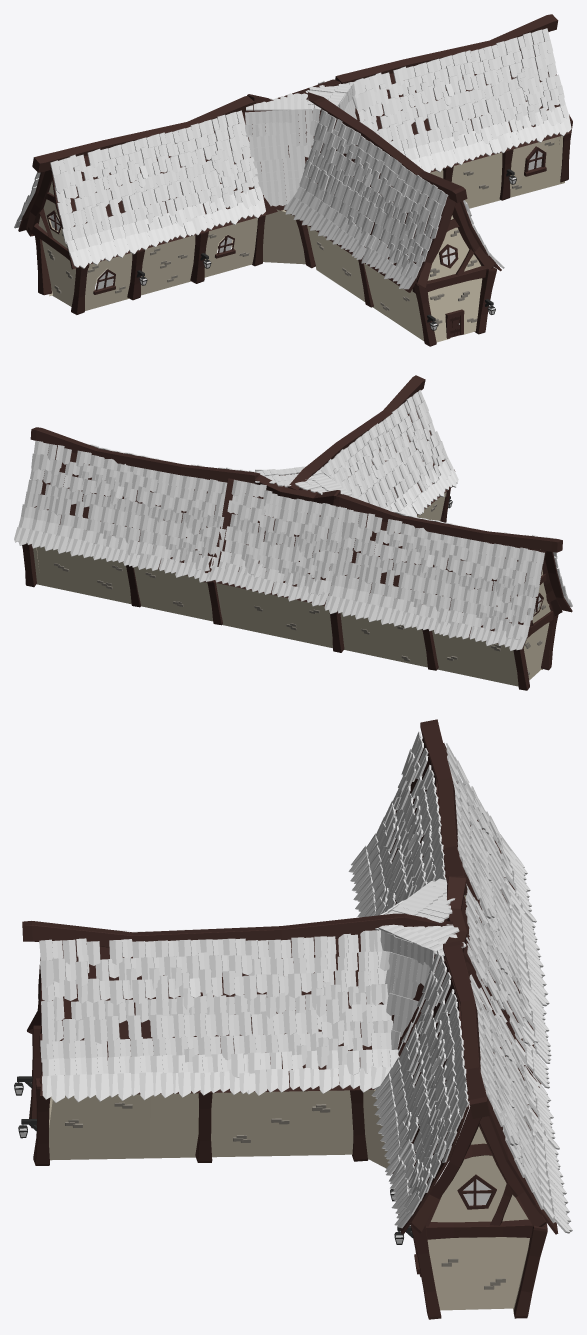
The model's file is Casa-Medievale.fbx.
3 views of the same model, one above another, from view 1: azimuth 30°, elevation 25°; view 2: azimuth 150°, elevation 25°; view 3: azimuth 270°, elevation 25° (orthographic). The views are drawn at different scales.
Parts seen in each view (by area): view 1: mattonelle-casa, Mura-magione, assi-di-legno, finestre-cornice-legno, mattonelle, vetro-finestre; view 2: mattonelle-casa, Mura-magione, assi-di-legno, mattonelle; view 3: mattonelle-casa, assi-di-legno, Mura-magione, mattonelle.
Boxes of the visible parts, x1,y1,x2,y2 form: mattonelle-casa: (14,28,571,289); Mura-magione: (38,136,564,342); assi-di-legno: (18,14,572,346); finestre-cornice-legno: (47,146,546,294); mattonelle: (47,141,554,326); vetro-finestre: (49,151,542,289); mattonelle-casa: (14,390,572,650); Mura-magione: (33,492,550,686); assi-di-legno: (22,375,572,690); mattonelle: (54,504,545,675); mattonelle-casa: (38,731,572,1233); assi-di-legno: (22,719,558,1319); Mura-magione: (49,749,529,1315); mattonelle: (65,894,505,1289).
Size of the model in its own units: 5362 by 1502 by 3306.
